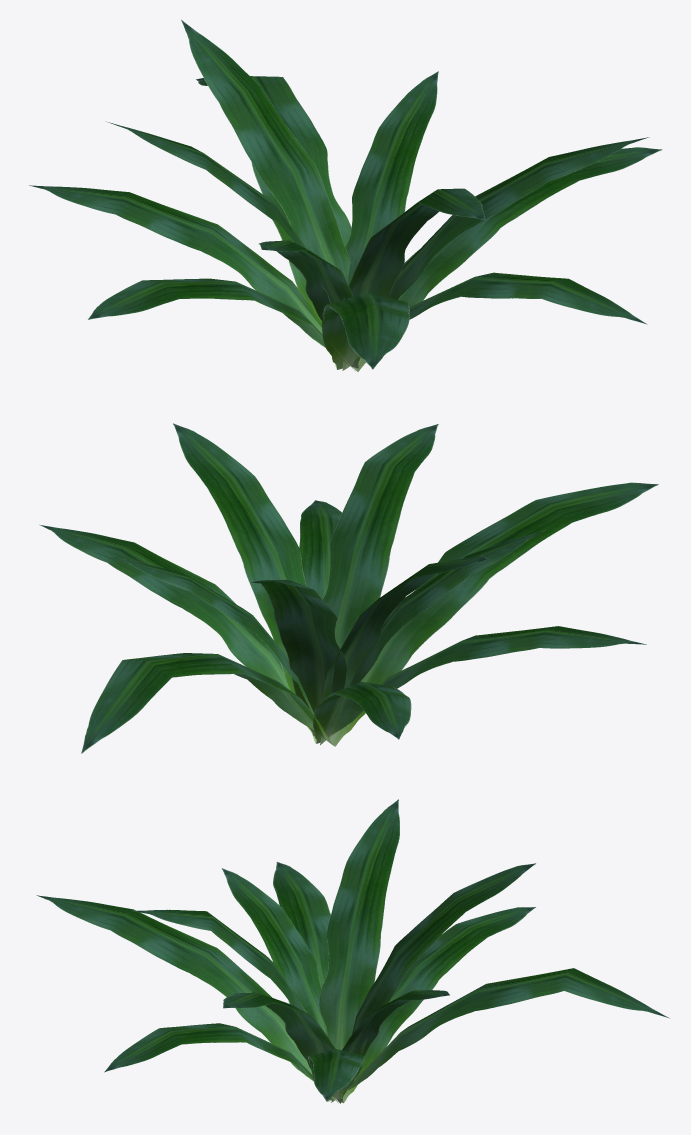
File: Plant_03.FBX
3 renders of one model, top to bottom at view 1: azimuth 30°, elevation 25°; view 2: azimuth 150°, elevation 25°; view 3: azimuth 270°, elevation 25°, orthographic. The views are drawn at different scales.
Parts seen in each view (by area): view 1: Plant_03; view 2: Plant_03; view 3: Plant_03.
Boxes of the visible parts, x1,y1,x2,y2 form: Plant_03: [29, 19, 662, 371]; Plant_03: [39, 423, 658, 753]; Plant_03: [36, 799, 669, 1103].
Size of the model in its own units: 4.3 by 1.85 by 4.91.
Materials: 1 (1 with a texture image).
